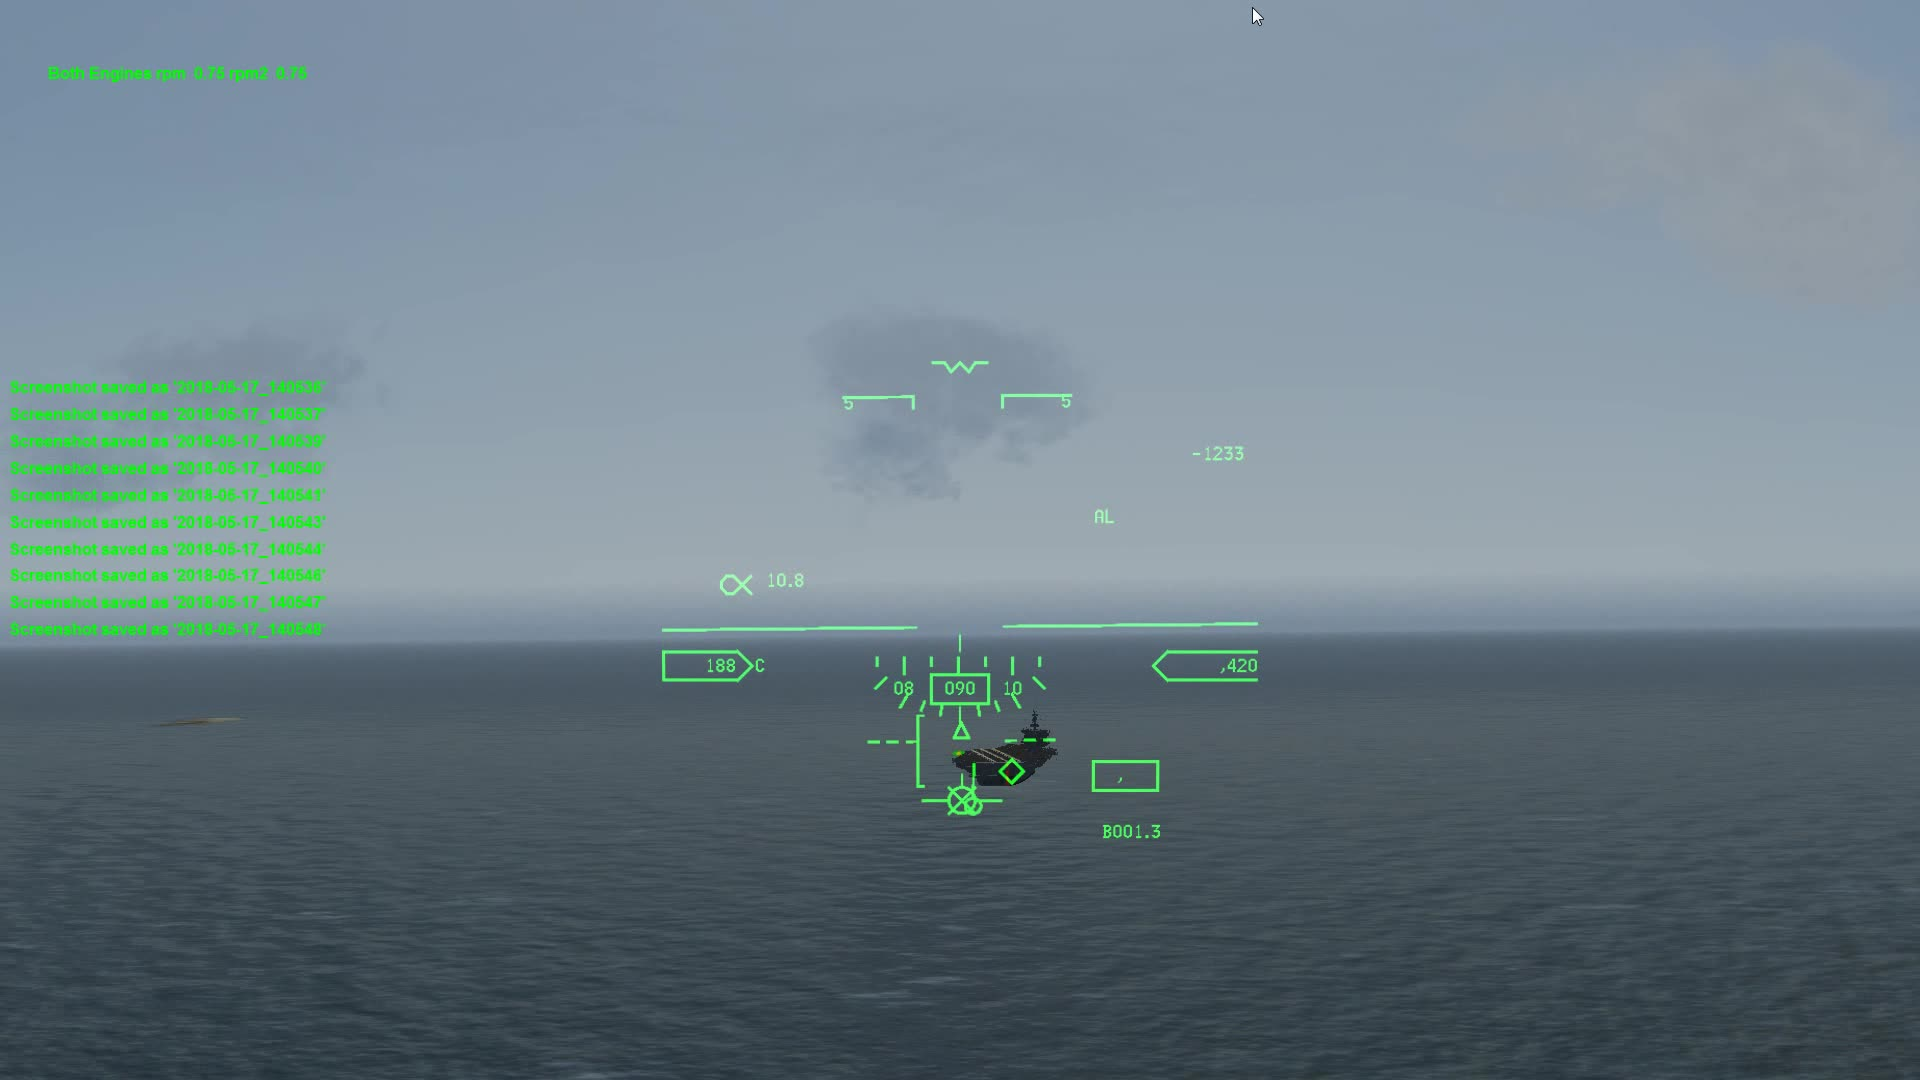speed vector: (920, 778, 1005, 816)
